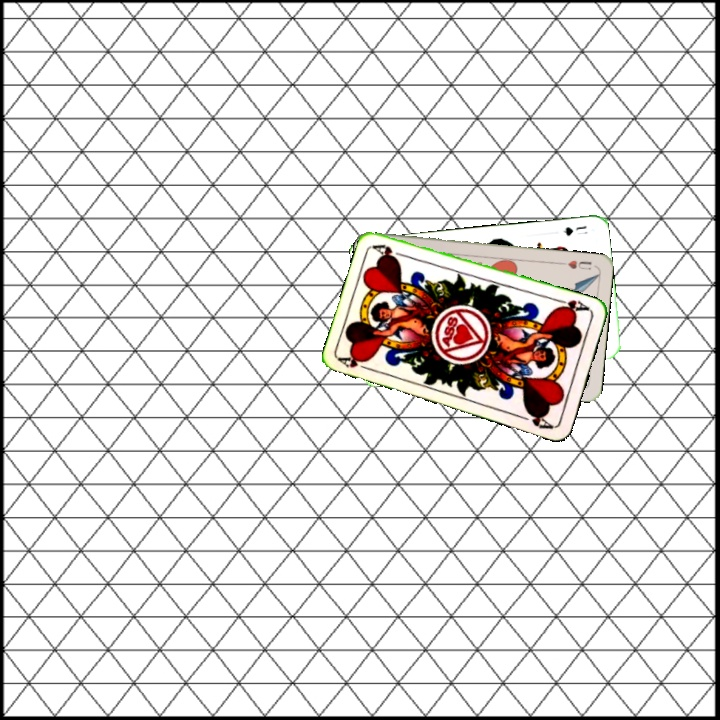GU: (559, 222, 589, 238)
HA: (335, 350, 375, 374), (552, 295, 592, 316)
HU: (556, 256, 594, 272)
